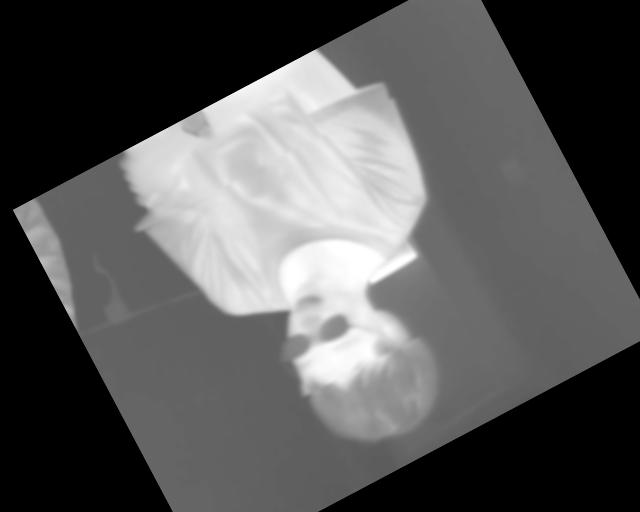face: (252, 243, 461, 470)
